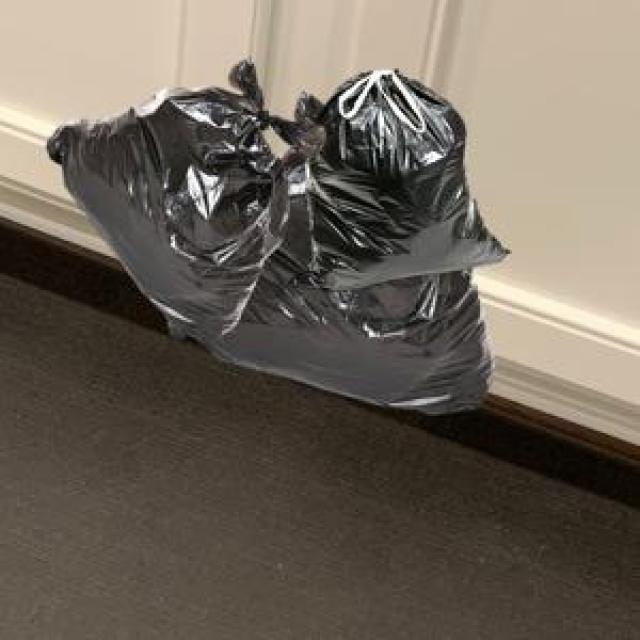miscellaneous trash: (170, 90, 491, 410), (43, 53, 322, 337), (282, 66, 506, 286)
